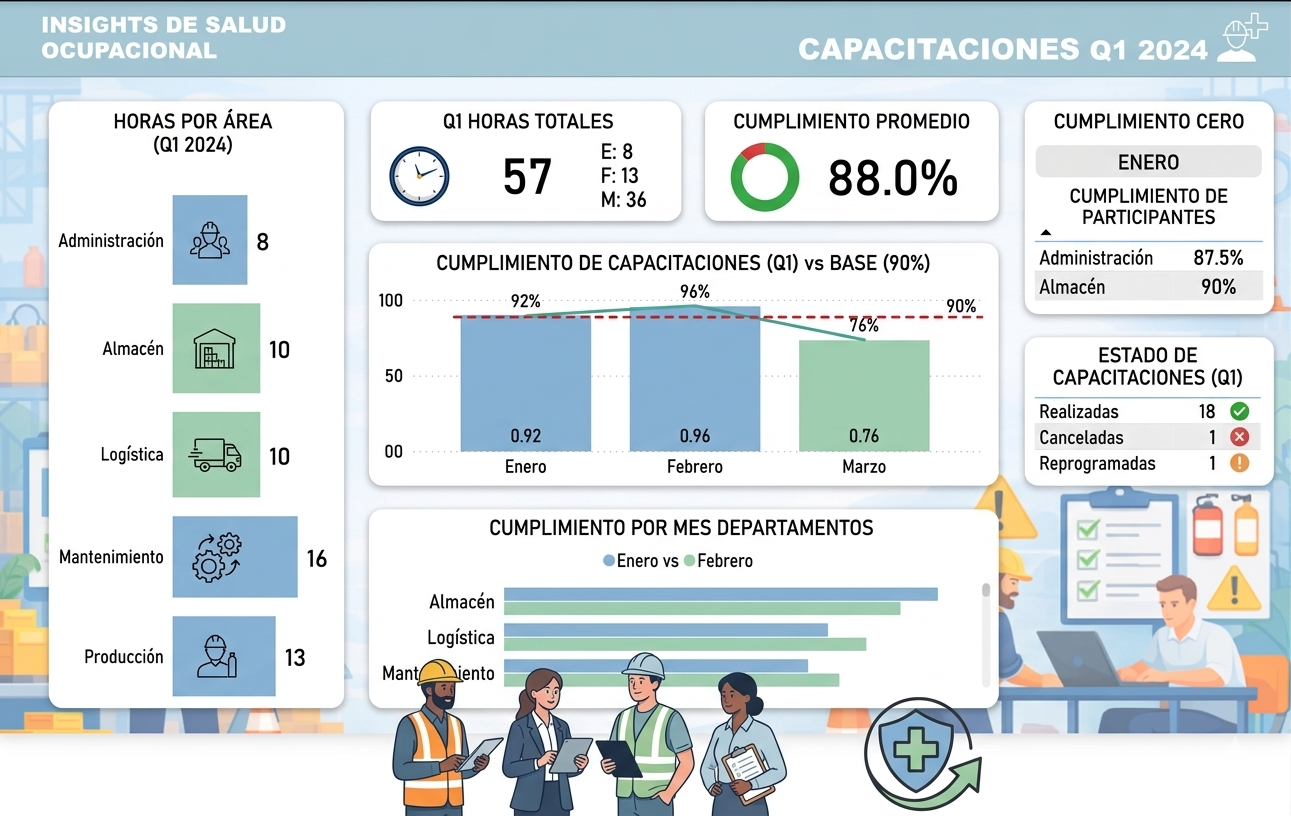

Layout of this report page (visuals, bound fields, positions):
{"tool":"powerbi","page":{"name":"CAPACITACION","canvas":[1280,720],"ordinal":2},"visuals":[{"type":"slicer","fields":{"Values":["DIM_CALENDARIO.Date.Variación.Jerarquía de fechas.Mes"]},"box":[71.7,105,568.3,55],"z":0},{"type":"pivotTable","fields":{"Rows":["FACT_CAPACITACIONES.Tema"],"Values":["Sum(FACT_CAPACITACIONES.N_Asistentes)","Sum(FACT_CAPACITACIONES.N_Programados)","Min(FACT_CAPACITACIONES.Estado)","Min(FACT_CAPACITACIONES.Faltante)"]},"box":[280,188.3,723.3,271.7],"z":1000},{"type":"advancedSlicerVisual","fields":{"Values":["DIM_AREAS.Nombre_Area"]},"box":[72,202.8,164.6,257.1],"z":2000},{"type":"clusteredColumnChart","fields":{"Category":["FACT_CAPACITACIONES.Fecha"],"Y":["Sum(FACT_CAPACITACIONES.N_Asistentes)"]},"box":[280.7,509.9,696.5,176.3],"z":3000},{"type":"card","fields":{"Values":["Avg(FACT_CAPACITACIONES.Porcentaje)"]},"box":[1058,489.3,210.1,141.1],"z":4000},{"type":"slicer","fields":{"Values":["FACT_CAPACITACIONES.Estado"]},"box":[705.3,94,543.7,79.3],"z":5000},{"type":"cardVisual","title":"HORASCAPACITADAS","fields":{"Data":["Sum(FACT_CAPACITACIONES.Horas_Capacitación)"]},"box":[1038.9,198.4,196.9,98.4],"z":6000},{"type":"cardVisual","title":"HORASCAPACITADAS","fields":{"Data":["Avg(FACT_CAPACITACIONES.PorcentajeAsistencia)"]},"box":[1019.8,321.8,260.1,120.5],"z":7000},{"type":"tableEx","fields":{"Values":["FACT_CAPACITACIONES.Imagen"]},"box":[72,510,165,176],"z":8000},{"type":"card","fields":{"Values":["FACT_CAPACITACIONES.prueba"]},"box":[365,231.7,300,300],"z":10000}]}

Visuals, with their boxes on the page's 1280x720 design canvas (x1, y1, x2, y2). These are canvas units, not pixel positions in the 1291x816 screenshot, which may show the page scaled, cropped or inside an application window:
slicer - DIM_CALENDARIO.Date.Variación.Jerarquía de fechas.Mes: region(72, 105, 640, 160)
pivotTable - FACT_CAPACITACIONES.Tema x Sum(FACT_CAPACITACIONES.N_Asistentes): region(280, 188, 1003, 460)
advancedSlicerVisual - DIM_AREAS.Nombre_Area: region(72, 203, 237, 460)
clusteredColumnChart - FACT_CAPACITACIONES.Fecha x Sum(FACT_CAPACITACIONES.N_Asistentes): region(281, 510, 977, 686)
card - Avg(FACT_CAPACITACIONES.Porcentaje): region(1058, 489, 1268, 630)
slicer - FACT_CAPACITACIONES.Estado: region(705, 94, 1249, 173)
"HORASCAPACITADAS" cardVisual: region(1039, 198, 1236, 297)
"HORASCAPACITADAS" cardVisual: region(1020, 322, 1280, 442)
tableEx - FACT_CAPACITACIONES.Imagen: region(72, 510, 237, 686)
card - FACT_CAPACITACIONES.prueba: region(365, 232, 665, 532)
